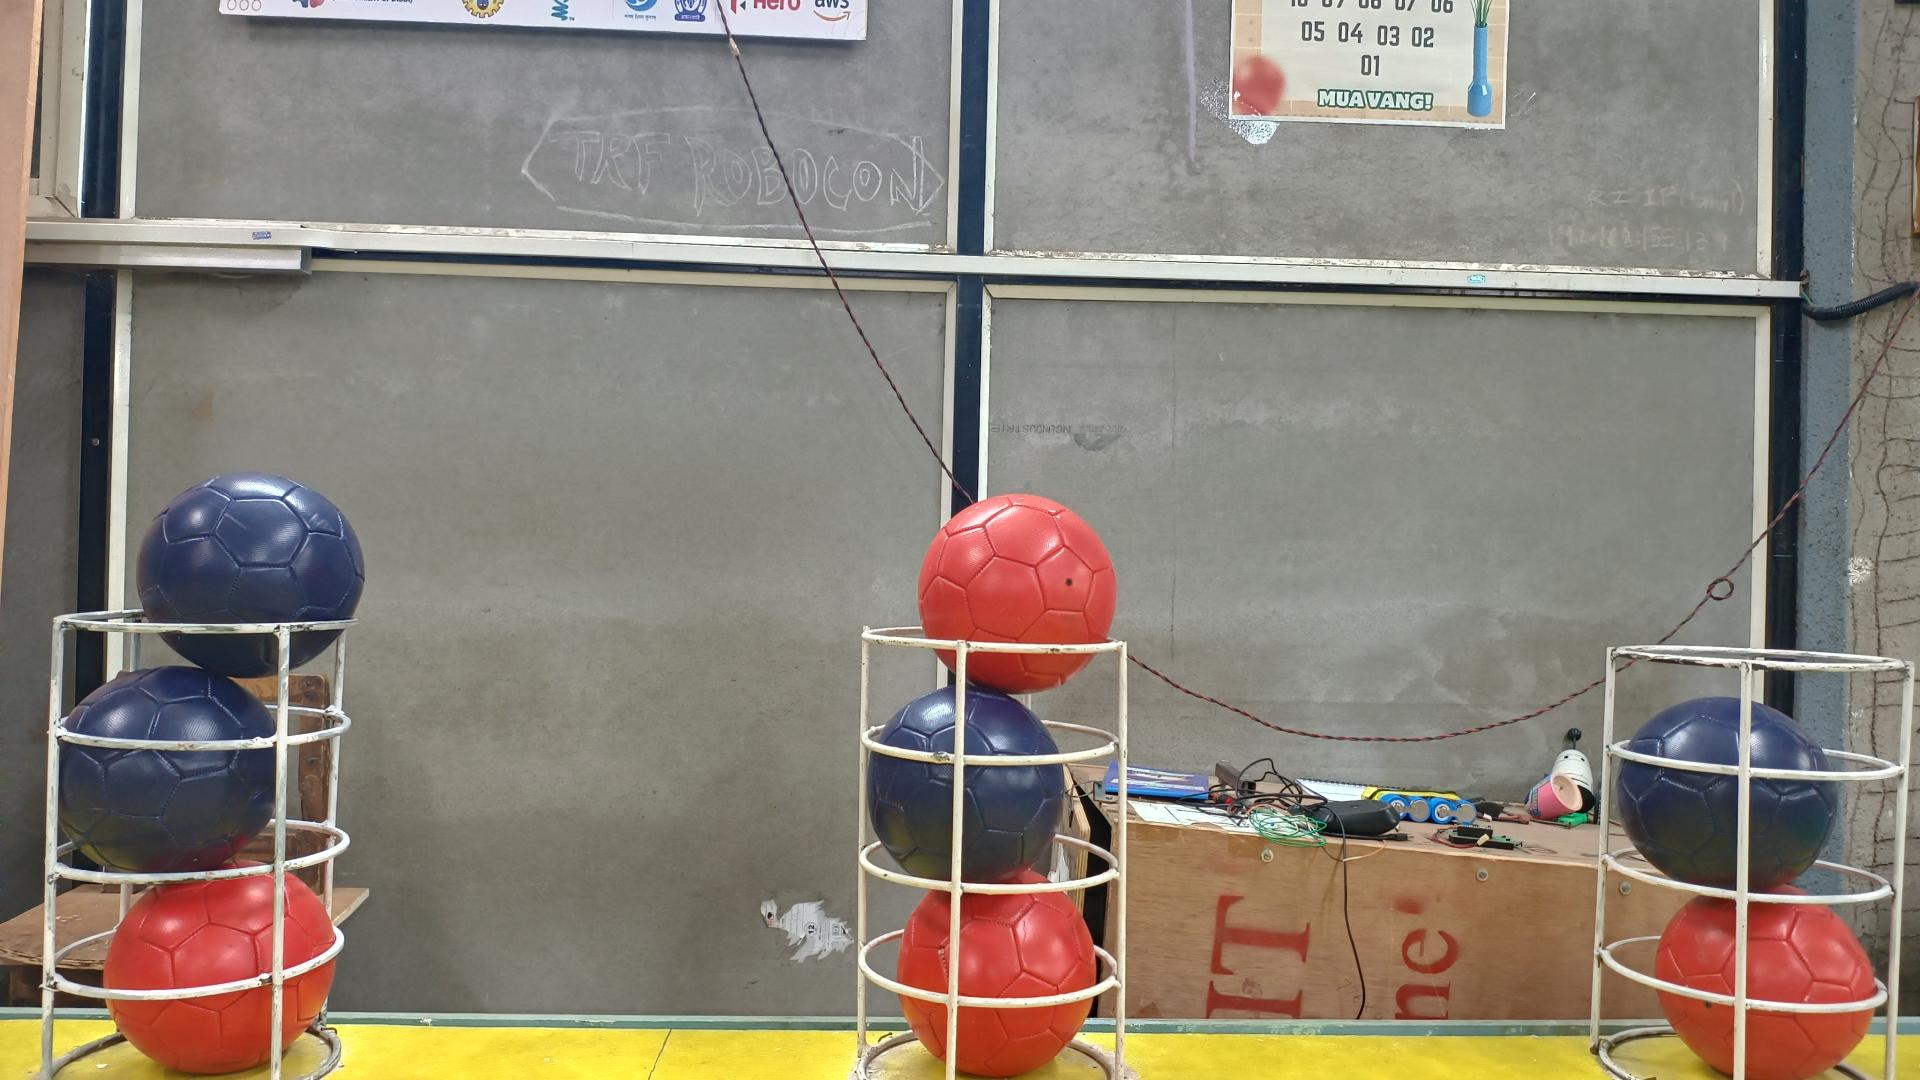dhoka: (133, 471, 365, 680), (57, 666, 278, 872), (1617, 700, 1842, 899), (866, 684, 1068, 884)
laale: (103, 873, 343, 1068), (1654, 886, 1875, 1075), (895, 869, 1098, 1072), (920, 496, 1118, 695)
